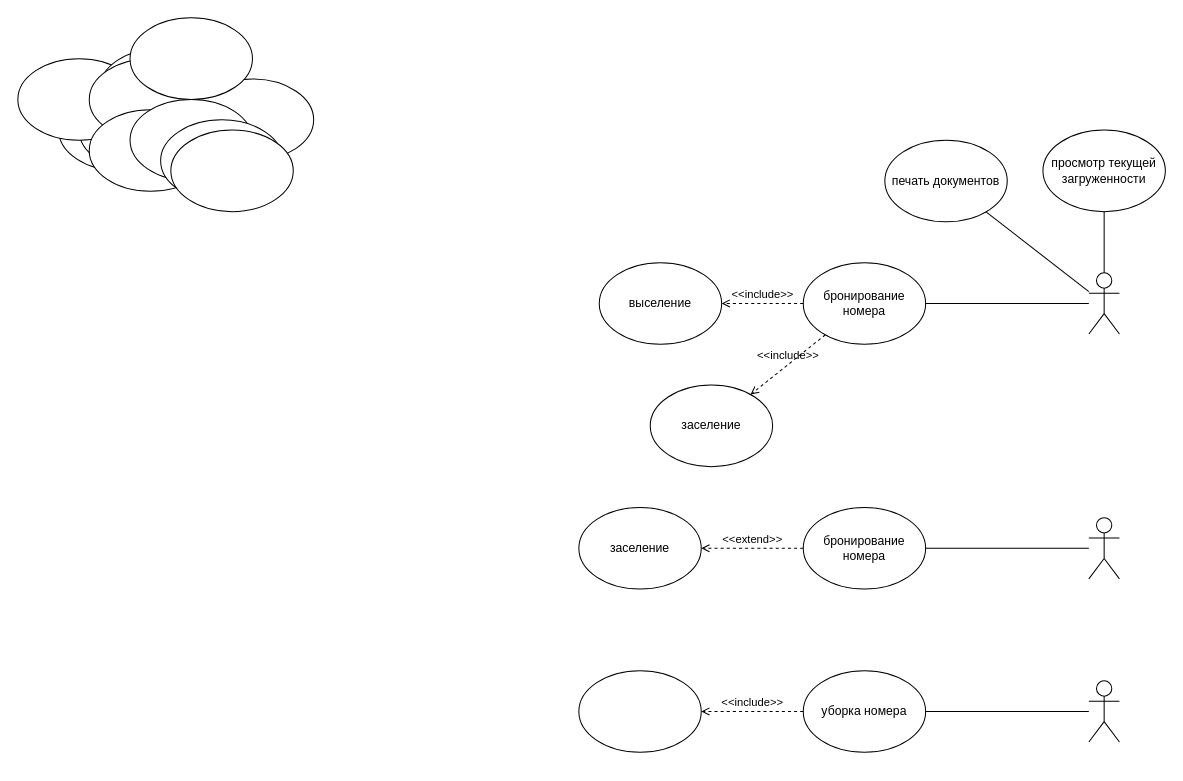
Image size: 1183x781. Some labels were removed from this diagram. The centre of each missing label's shape, as x and y in pixels:
"Администратор" belongs at point 1103,303.
"горничная" belongs at point 1103,711.
"доложить об окончании уборки" belongs at point 639,711.
"Клиент" belongs at point 1103,548.
